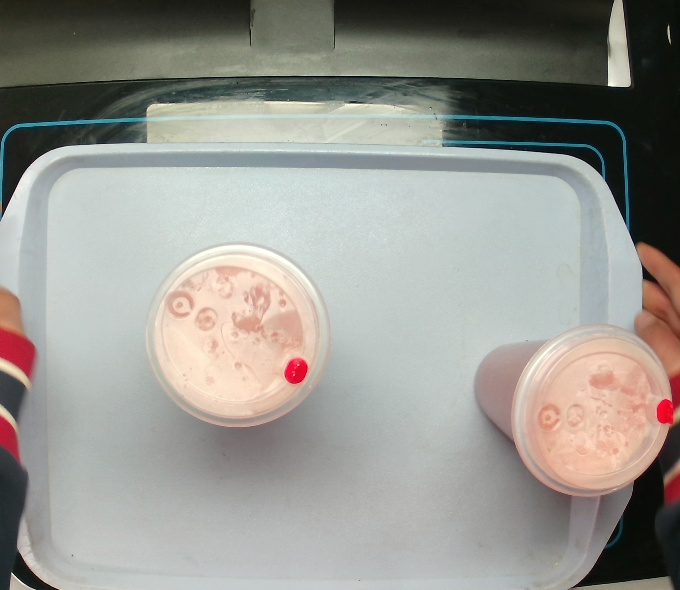wcq-XiGuaZhi: (141, 238, 333, 429), (472, 320, 674, 501)
